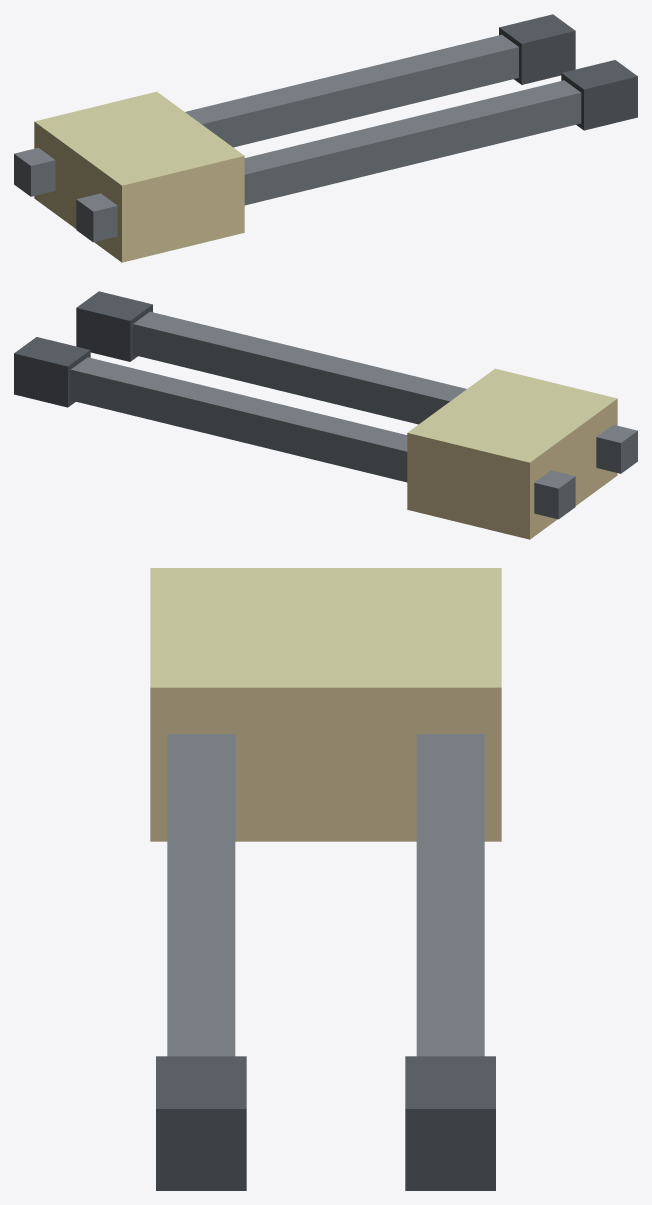
The picture shows the model from 3 angles, top to bottom: view 1: azimuth 30°, elevation 25°; view 2: azimuth 150°, elevation 25°; view 3: azimuth 270°, elevation 25°; orthographic projection. The views are drawn at different scales.
Visible parts, largest first — view 1: t_mg_b; view 2: t_mg_b; view 3: t_mg_b.
Part boxes in pixels (x1,y1,x2,y2): t_mg_b: (14, 14, 637, 262); t_mg_b: (14, 291, 637, 539); t_mg_b: (150, 568, 501, 1190).
Size of the model in its own units: 2.21 by 0.3 by 0.62.
